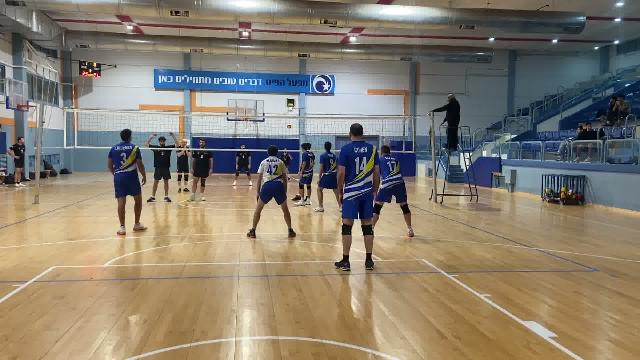ball: (284, 123, 294, 132)
